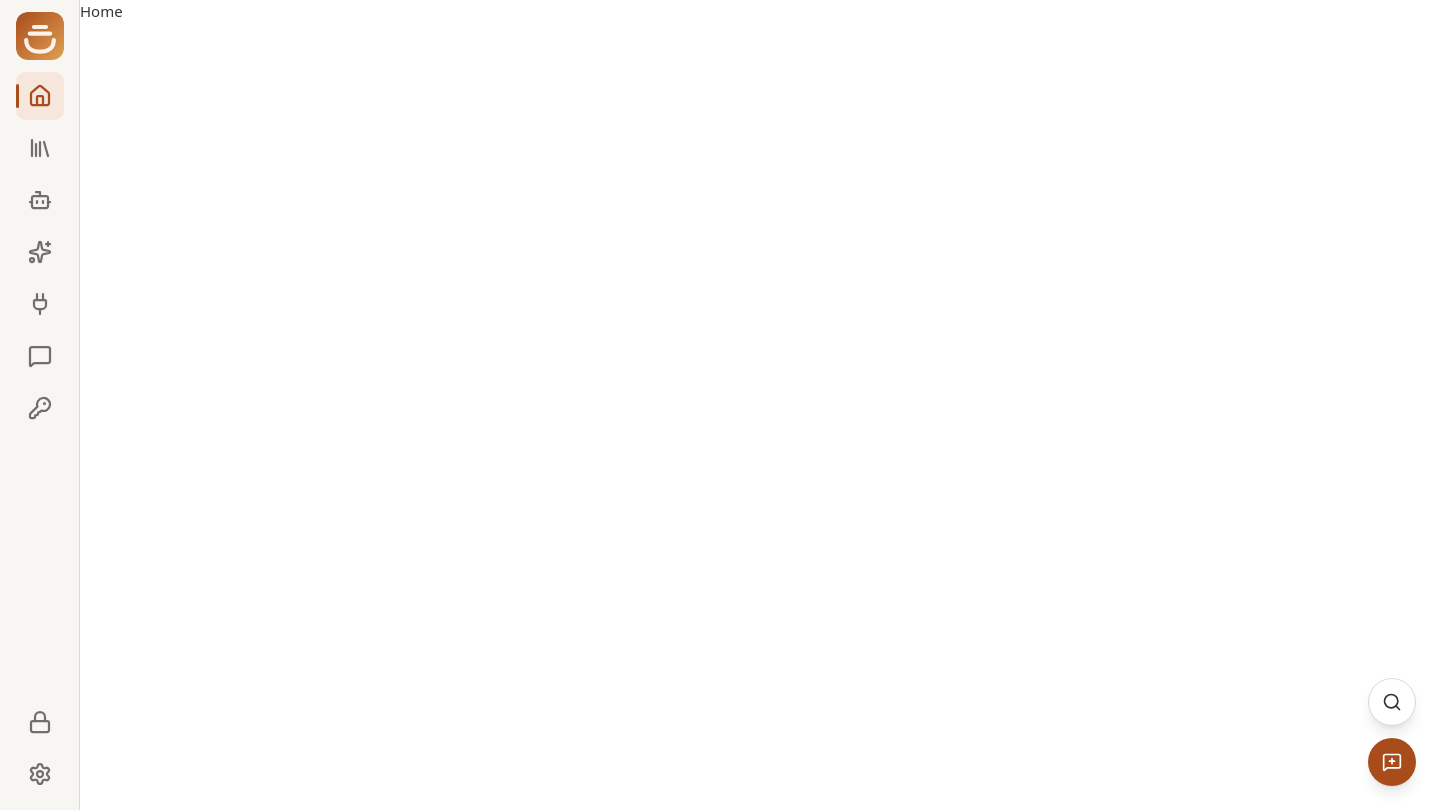
Test case: selecting a notes result navigates to its /kb?path= route
This screenshot has width=1440, height=810.
Check: the heading "Home" is shown, box [80,1,123,21]
Press k
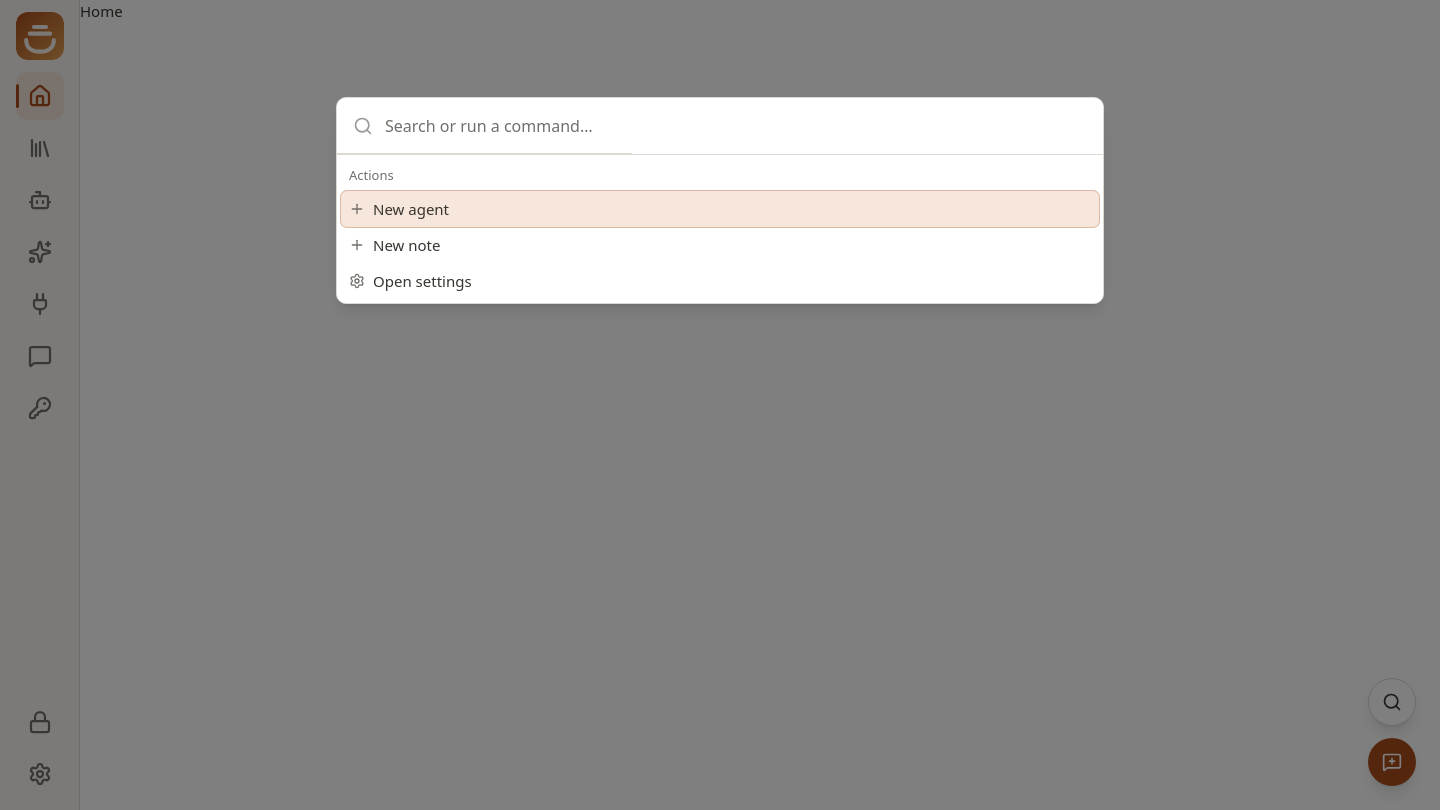
Type "trip" into the dropdown with placeholder "Search or run a command…". click: (500, 126)
box: [385,102,616,150]
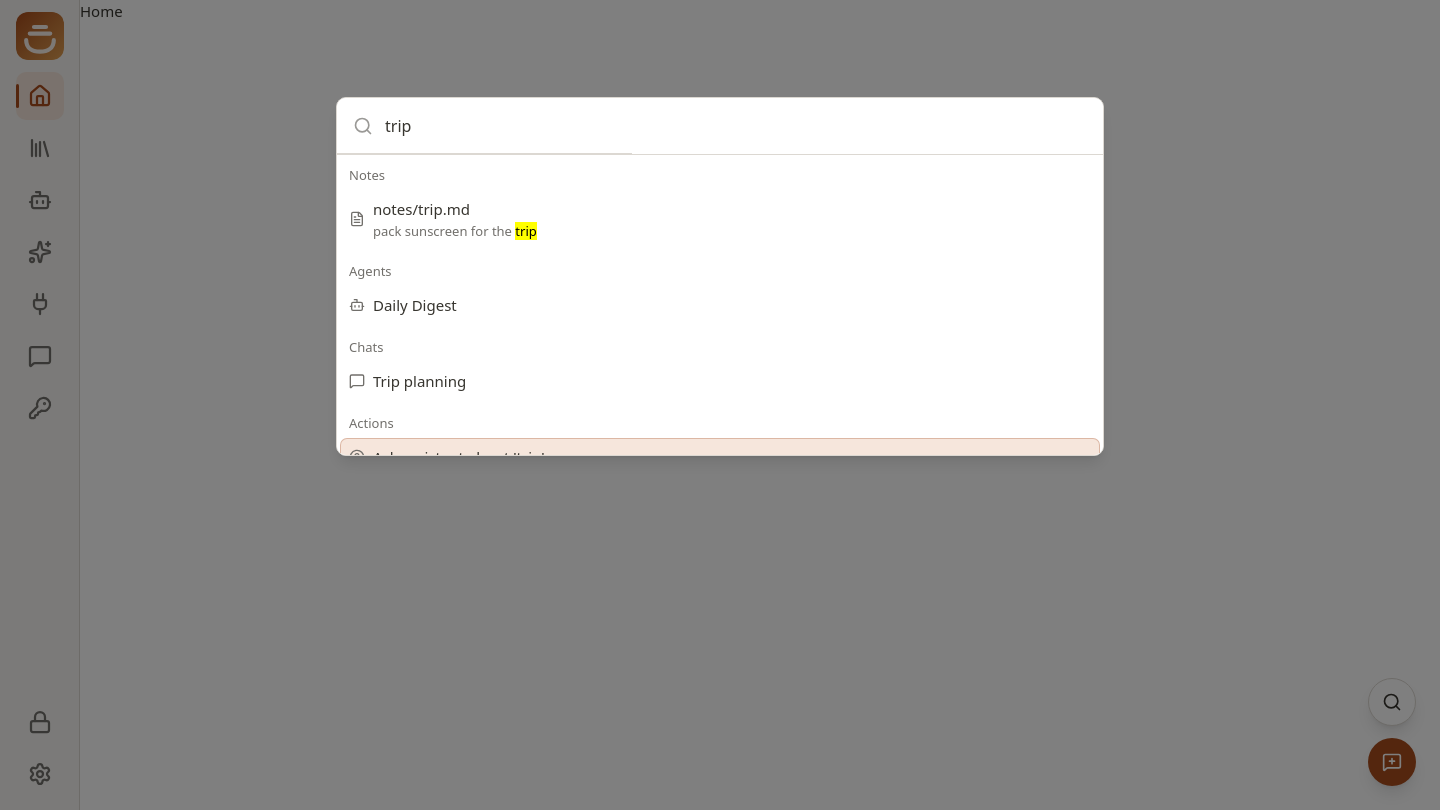
Click the text "notes/trip.md". click: (422, 209)
box: [373,199,470,219]
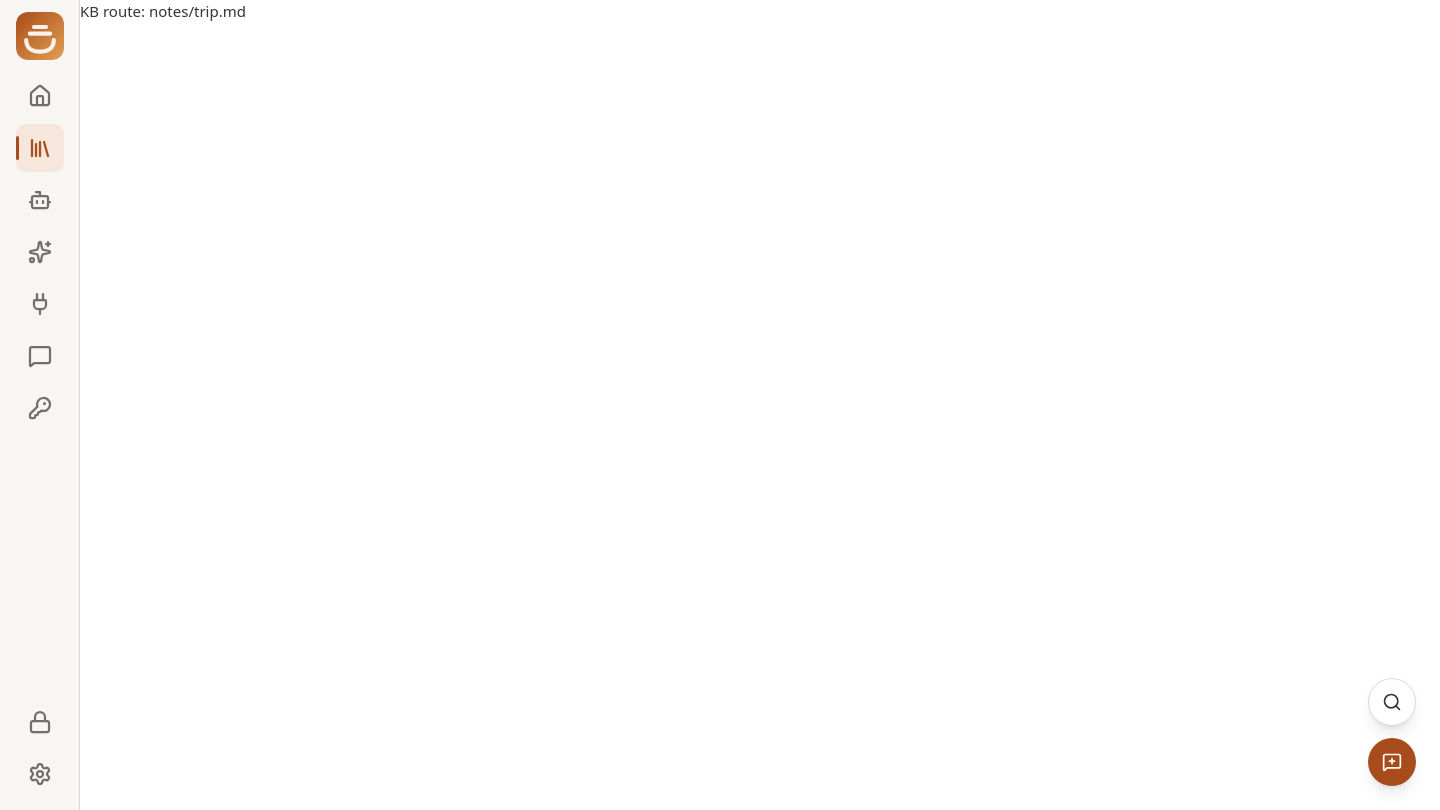
Check: the text "KB route: notes/trip.md" is shown, box [80,1,246,21]
